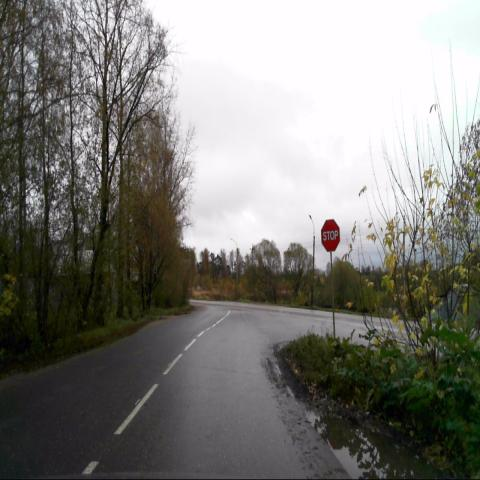2_5: (320, 218, 341, 253)
